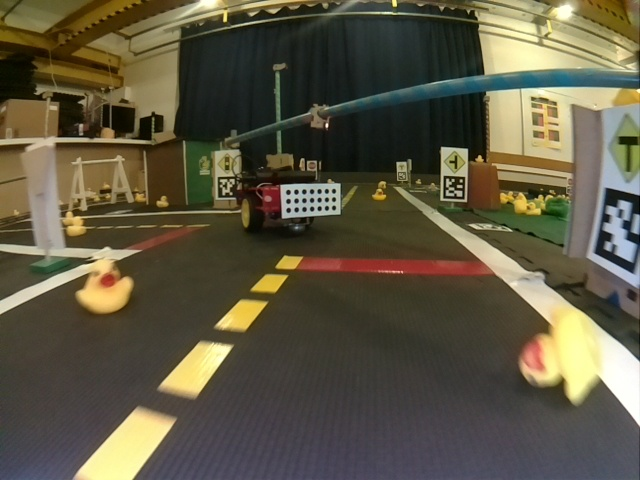Duckie: (518, 311, 601, 403), (76, 261, 132, 308), (68, 218, 85, 234), (372, 189, 383, 200), (64, 211, 74, 221), (157, 196, 167, 205), (477, 155, 485, 164)
Duckiebot: (237, 166, 341, 231)
Intersection sign: (605, 110, 639, 179), (444, 148, 463, 170)
QR code: (589, 186, 639, 275), (442, 176, 468, 201), (217, 176, 237, 200), (468, 222, 509, 231), (398, 172, 407, 181)
Signal sign: (217, 153, 239, 171)
